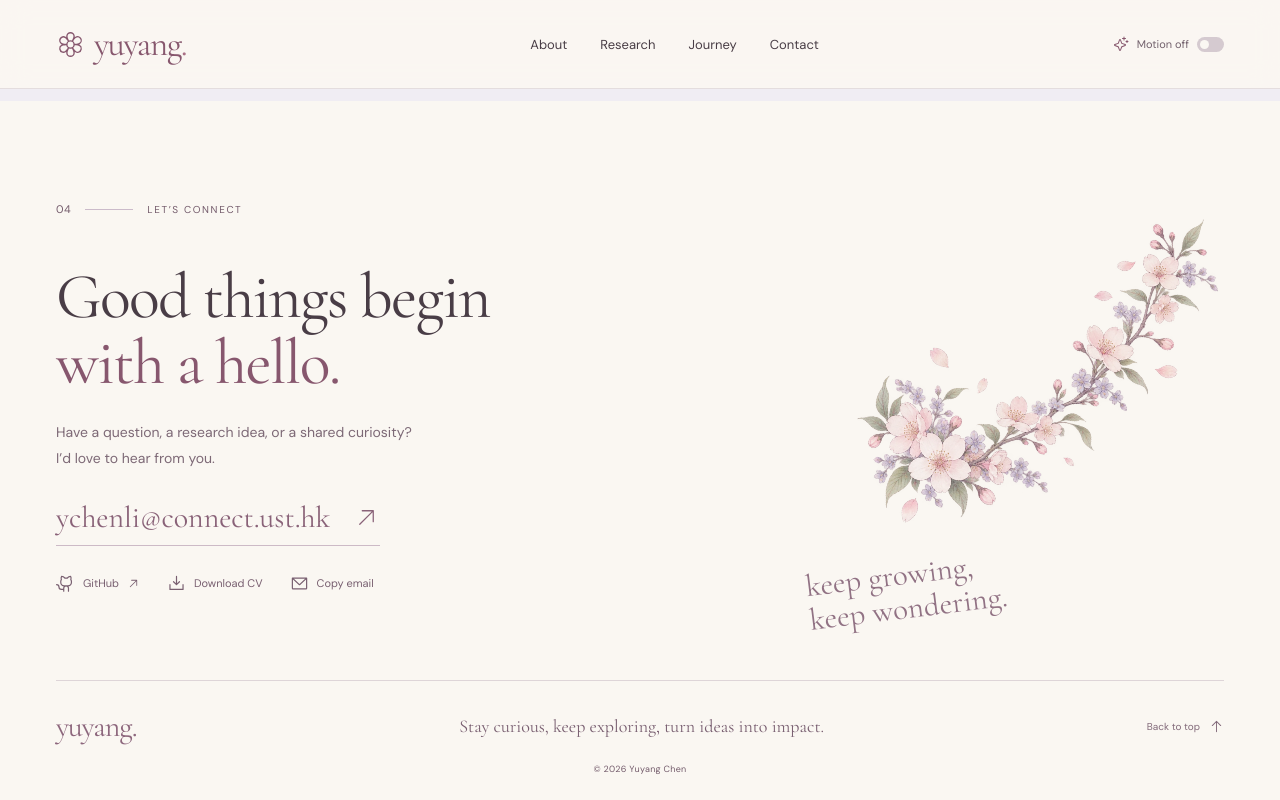
Test case: Research garden › does not keep an old clipboard-success label after a failed retry
(page scrolled)
Click the button "Copy email" at (332, 584), box [290,568,374,599]
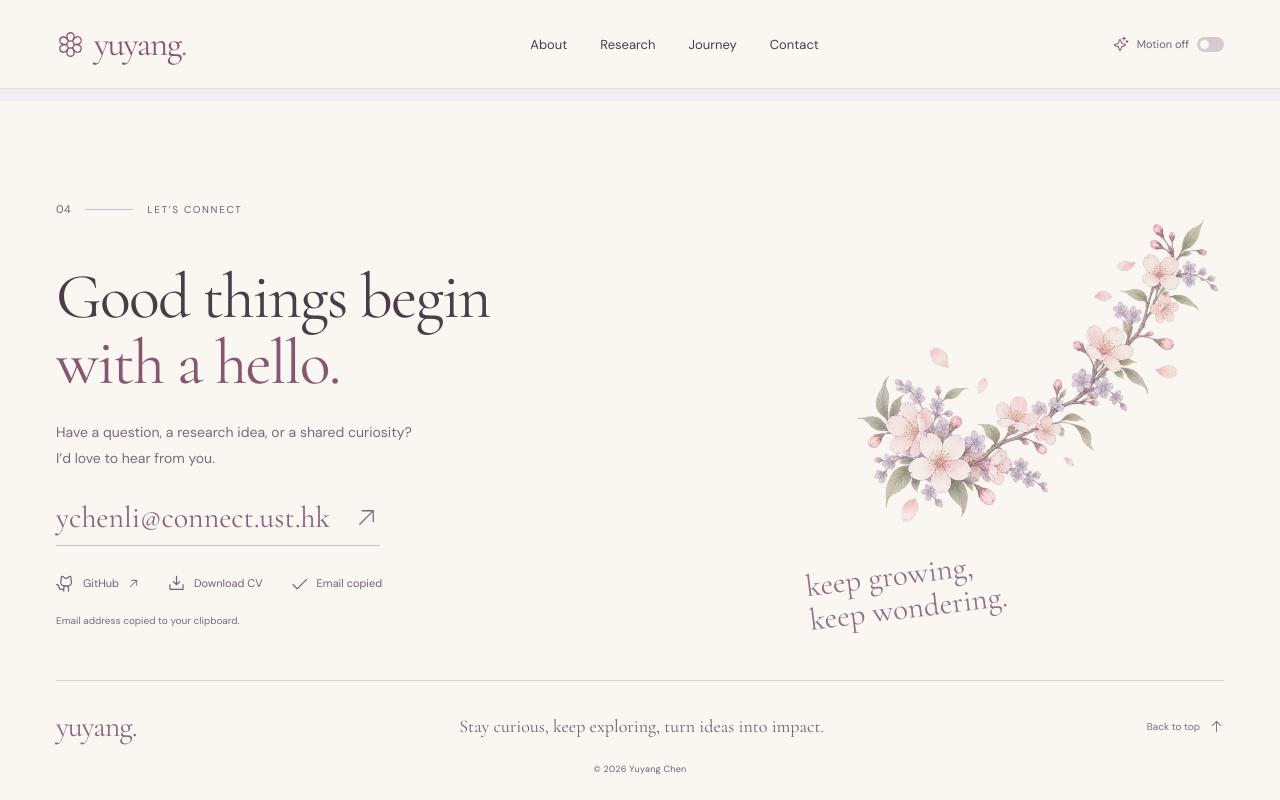
Expected: the button "Email copied" is shown
Click the button "Email copied" at (336, 584), box [290,568,382,599]
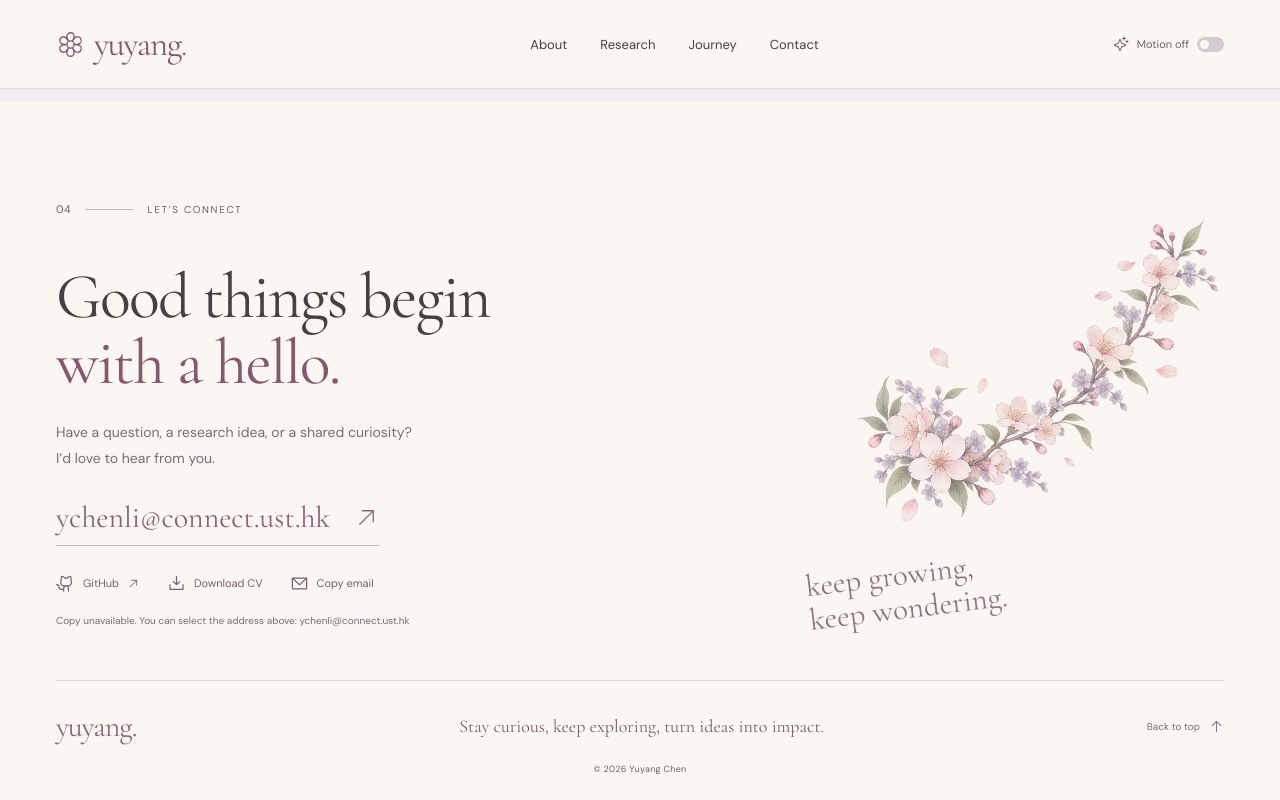
Expected: the message shows "Copy unavailable", [56,614,410,627]
Expected: the button "Copy email" is shown, [290,568,374,599]
Expected: the button "Email copied" is gone
